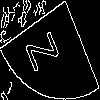Z: (24, 25, 66, 74)
